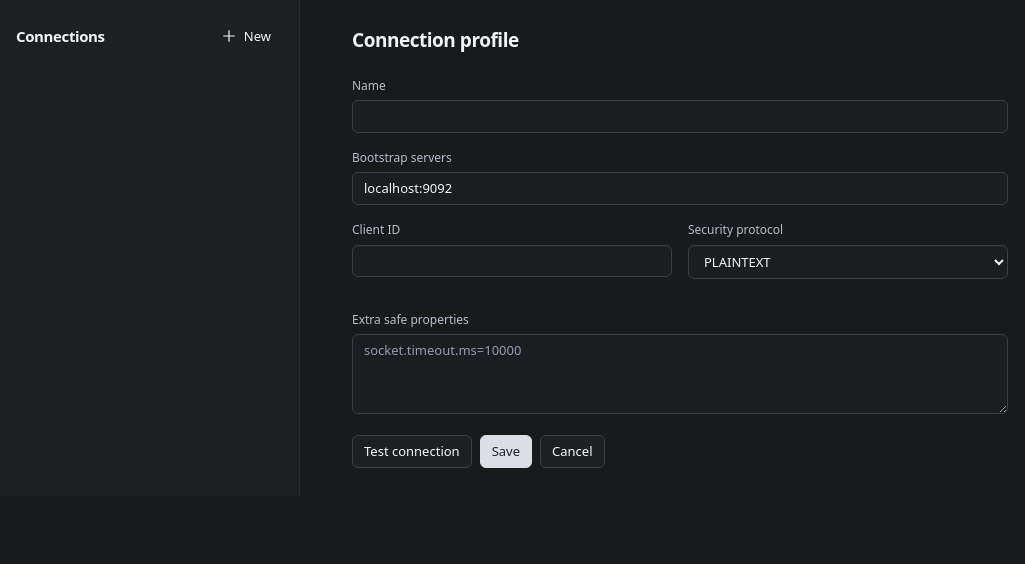
Test: Connections › blocks invalid connection details before invoking IPC
Expected: the heading "Connection profile" is shown, [352,27,519,53]
Step 1. Click the button "Test connection" → (412, 451), box [352,435,472,468]
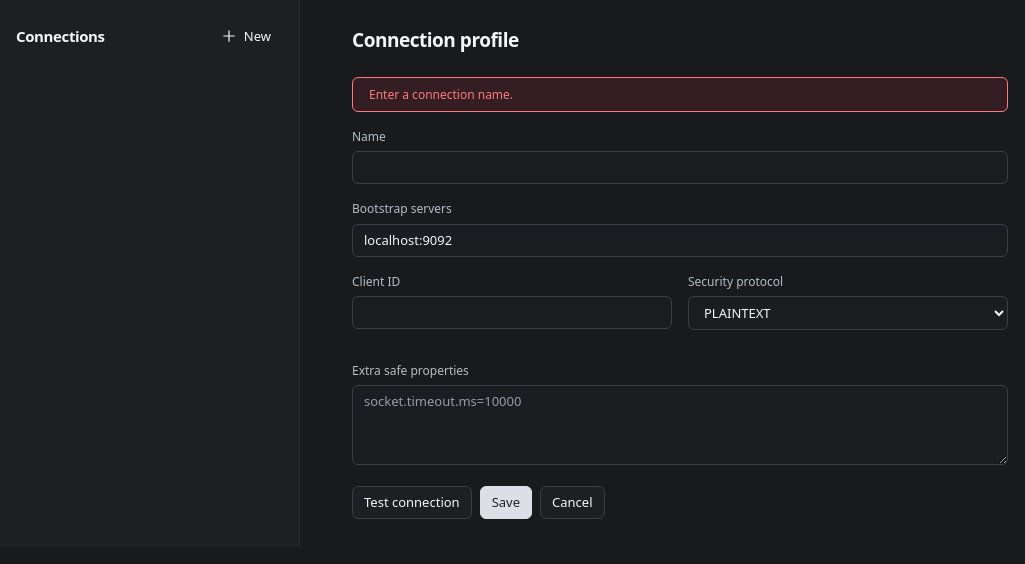
Expected: the message reads "Enter a connection name.", [369,86,513,103]
Step 2. Type "Local" into the field labelled "Name" → (680, 168), box [352,152,1008,184]
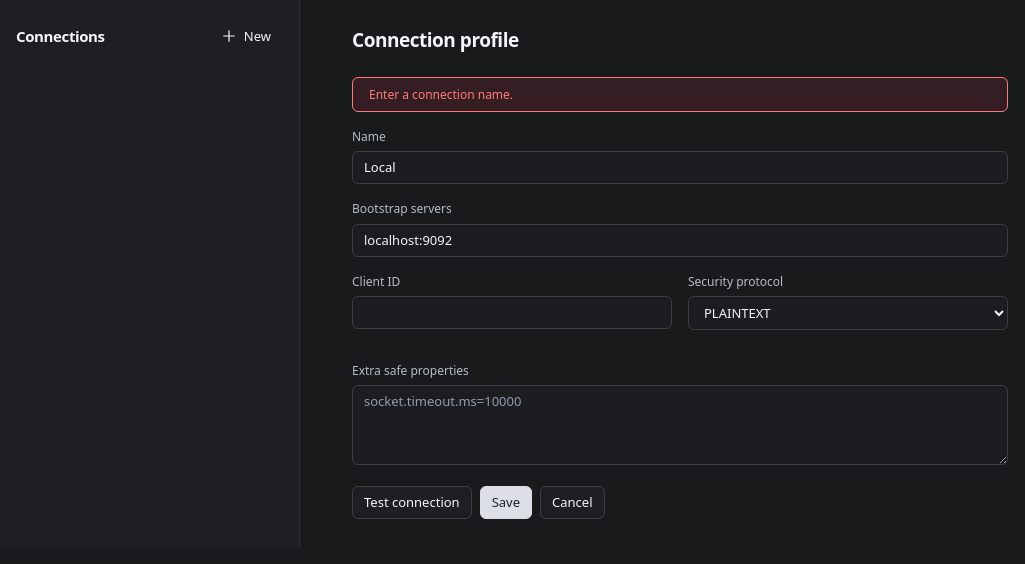
Step 3. Replace the text in the field labelled "Bootstrap servers" with "bad-server" → (680, 240), box [352,224,1008,256]
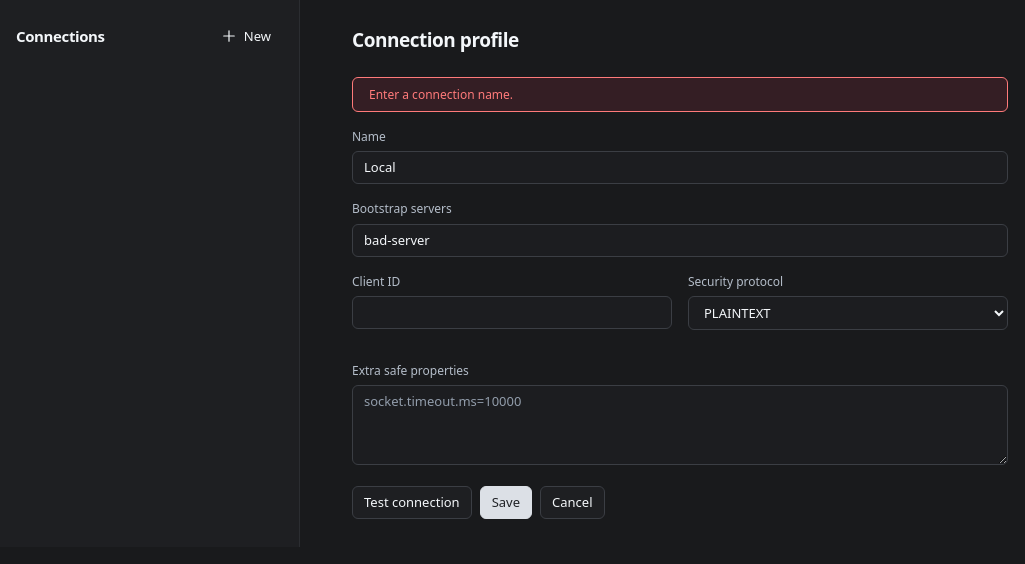
Step 4. Click the button "Save" → (506, 503), box [480,486,532,519]
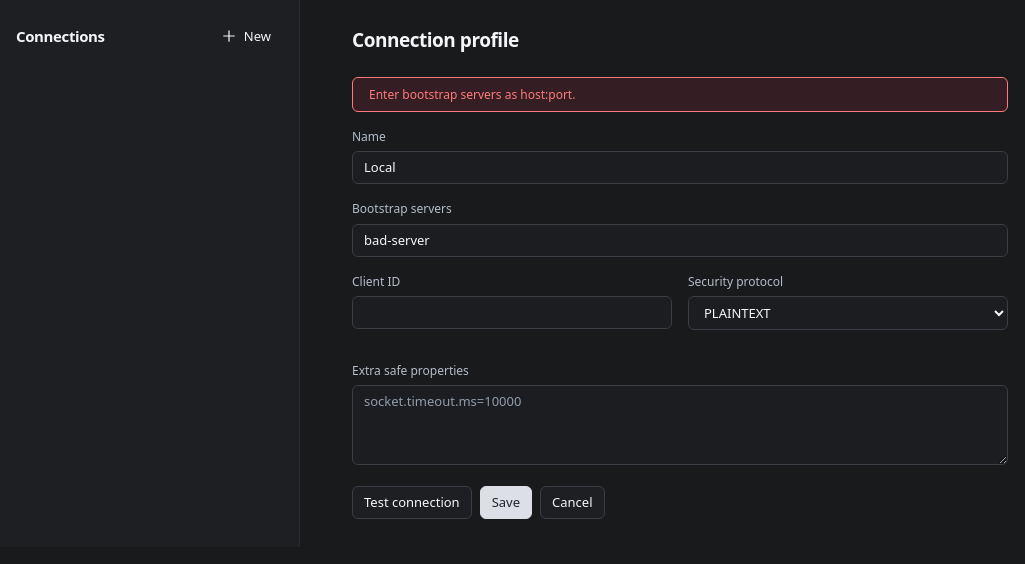
Expected: the message reads "Enter bootstrap servers as host:port.", [369,86,575,103]
